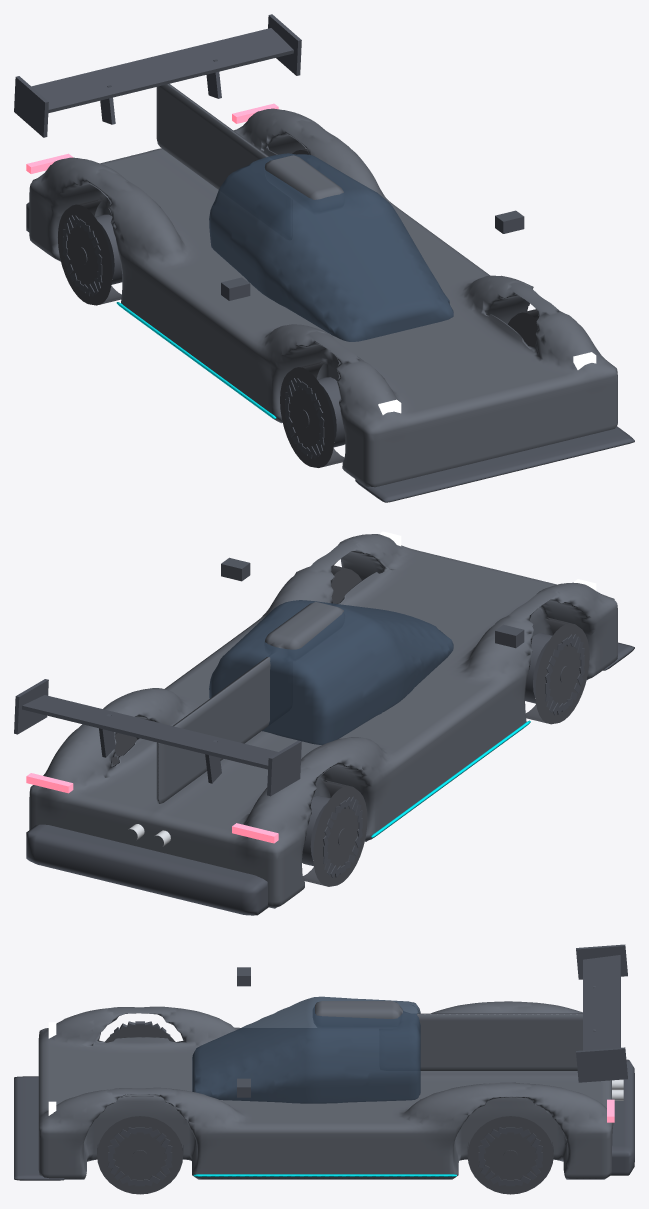
File: helios.glb
3 views of the same model, one above another, from view 1: azimuth 30°, elevation 25°; view 2: azimuth 150°, elevation 25°; view 3: azimuth 270°, elevation 25° (orthographic). The views are drawn at different scales.
Parts seen in each view (by area): view 1: Bodywork, CanopyGlass, CarbonAero (×3), TireRubber, ForgedRim, TaillightLED, AccentLivery; view 2: Bodywork, CarbonAero (×3), CanopyGlass, TireRubber, ForgedRim, TaillightLED, AccentLivery; view 3: Bodywork, CanopyGlass, CarbonAero (×3), TireRubber, ForgedRim, AccentLivery.
Part boxes in pixels (box(x1,y1,x2,y2)): Bodywork: box(29, 84, 617, 487); CanopyGlass: box(209, 153, 453, 341); CarbonAero (×3): box(14, 14, 634, 502); TireRubber: box(58, 148, 538, 467); ForgedRim: box(62, 214, 345, 458); TaillightLED: box(26, 103, 278, 173); AccentLivery: box(116, 302, 276, 418); Bodywork: box(29, 534, 617, 908); CarbonAero (×3): box(14, 557, 634, 915); CanopyGlass: box(209, 600, 453, 744); TireRubber: box(111, 565, 589, 886); ForgedRim: box(302, 633, 584, 877); TaillightLED: box(26, 773, 278, 843); AccentLivery: box(371, 720, 530, 837); Bodywork: box(38, 1001, 613, 1179); CanopyGlass: box(192, 996, 420, 1103); CarbonAero (×3): box(14, 944, 634, 1180); TireRubber: box(97, 1025, 553, 1194); ForgedRim: box(108, 1021, 542, 1186); AccentLivery: box(193, 1174, 456, 1176).
Bounding box in the file's own units: 2.24 × 1.27 × 4.89.
